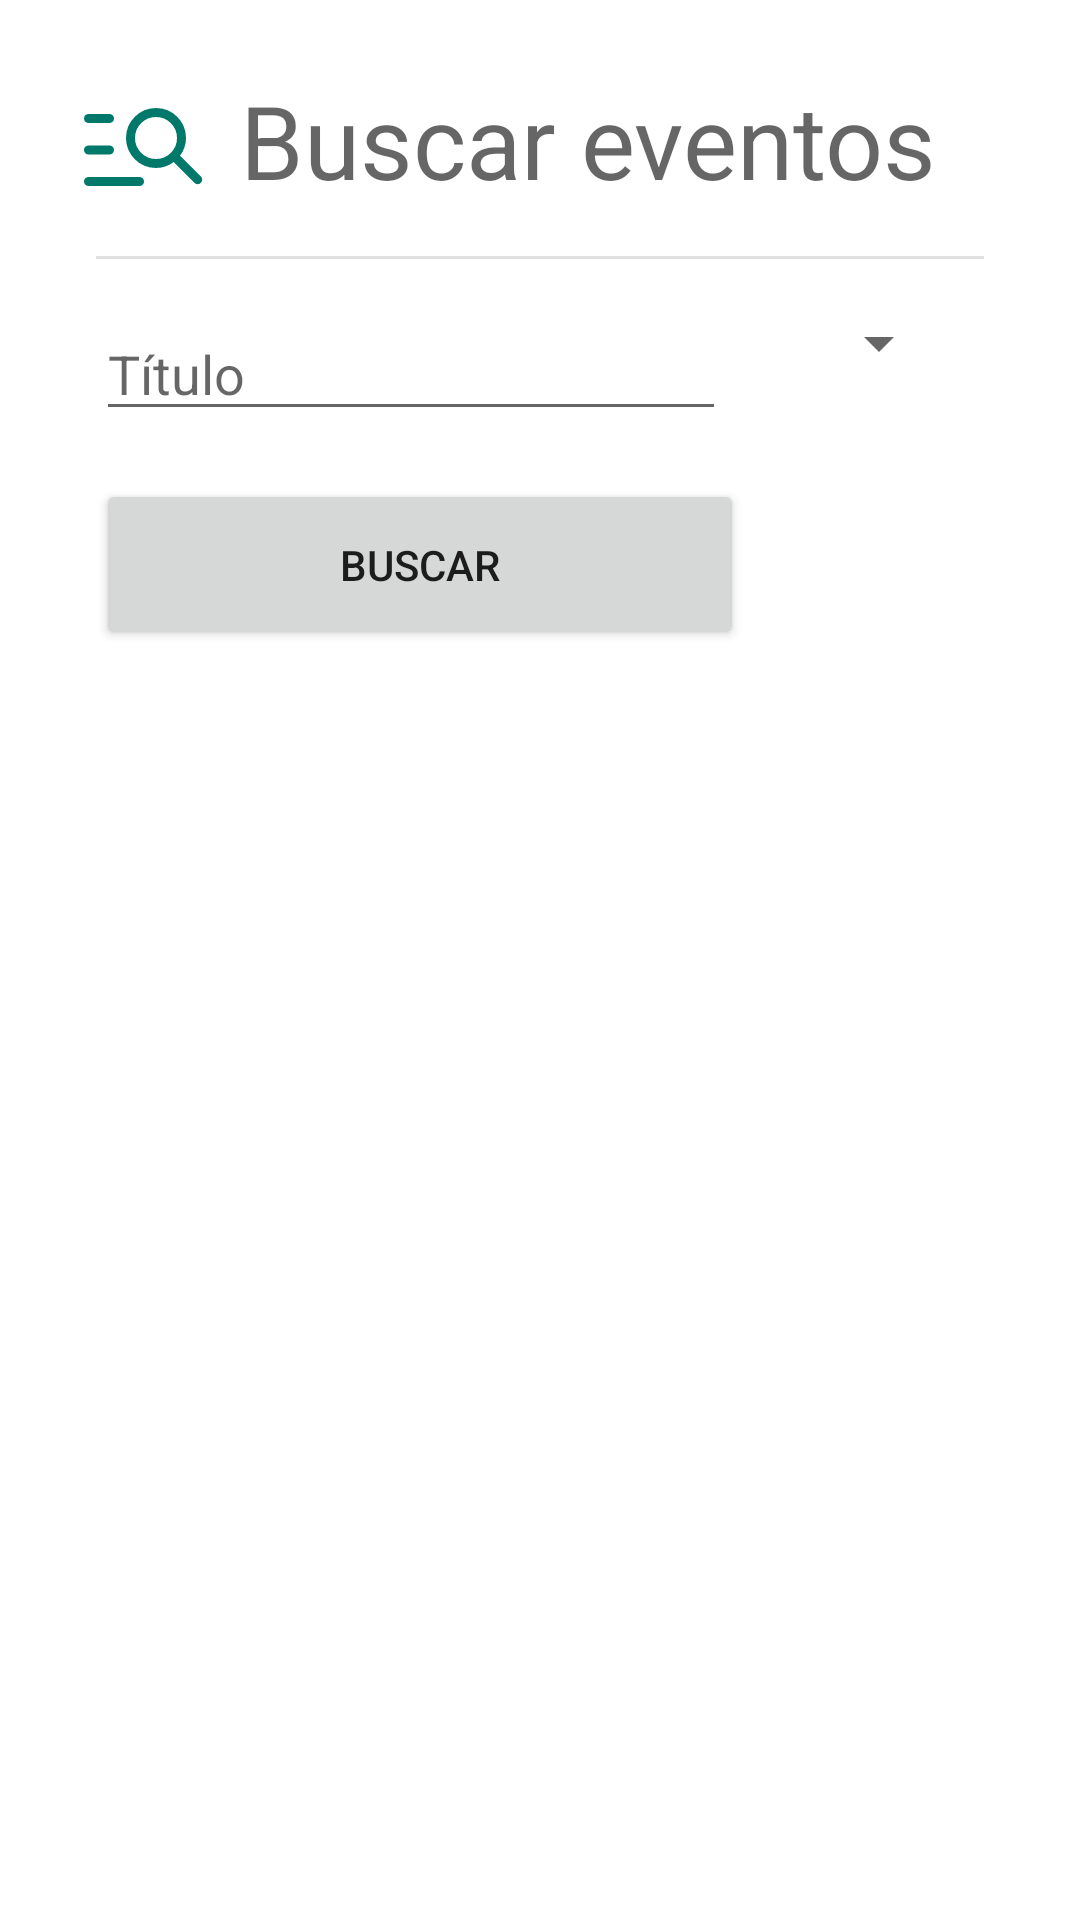

Icon click points for this 1080 x 1920 phone screenshot, format [x,y]:
manage search: [143,147]
